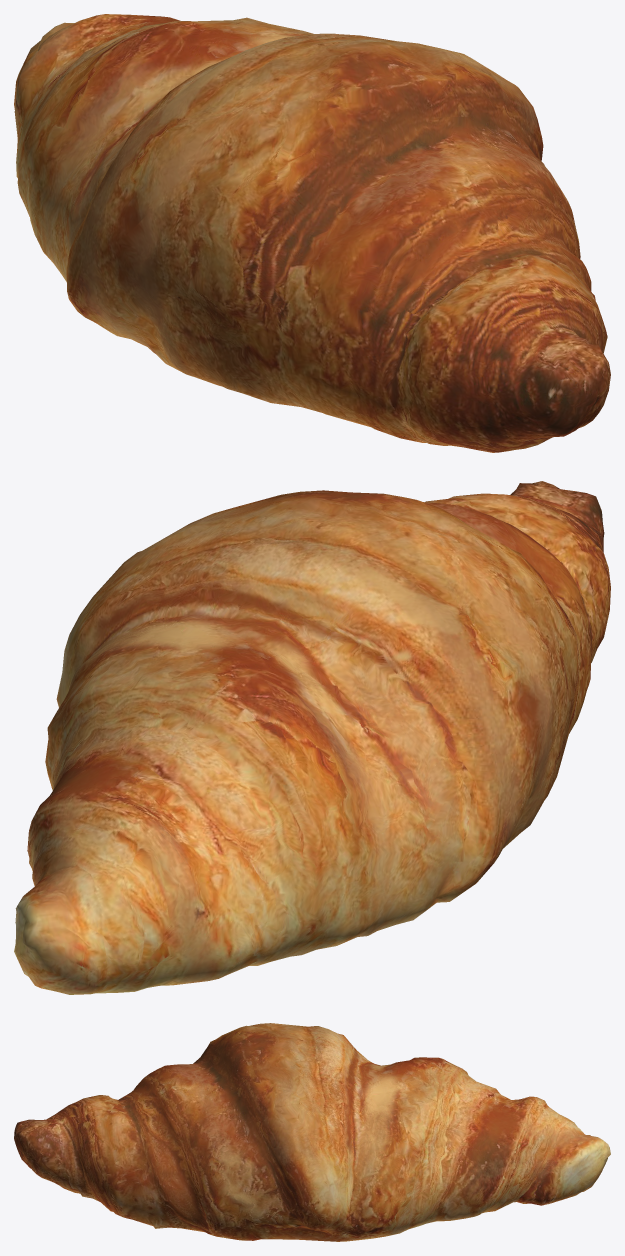
3 renders of one model, top to bottom at view 1: azimuth 30°, elevation 25°; view 2: azimuth 150°, elevation 25°; view 3: azimuth 270°, elevation 25°, orthographic. The views are drawn at different scales.
Parts seen in each view (by area): view 1: sm_food_prepared_croissant_a01_mesh_00; view 2: sm_food_prepared_croissant_a01_mesh_00; view 3: sm_food_prepared_croissant_a01_mesh_00.
Boxes of the visible parts, x1,y1,x2,y2 form: sm_food_prepared_croissant_a01_mesh_00: (14, 14, 610, 452); sm_food_prepared_croissant_a01_mesh_00: (14, 481, 610, 994); sm_food_prepared_croissant_a01_mesh_00: (14, 1023, 610, 1241).
Size of the model in its own units: 0.0669 by 0.0433 by 0.14.
Materials: 1 (1 with a texture image).
